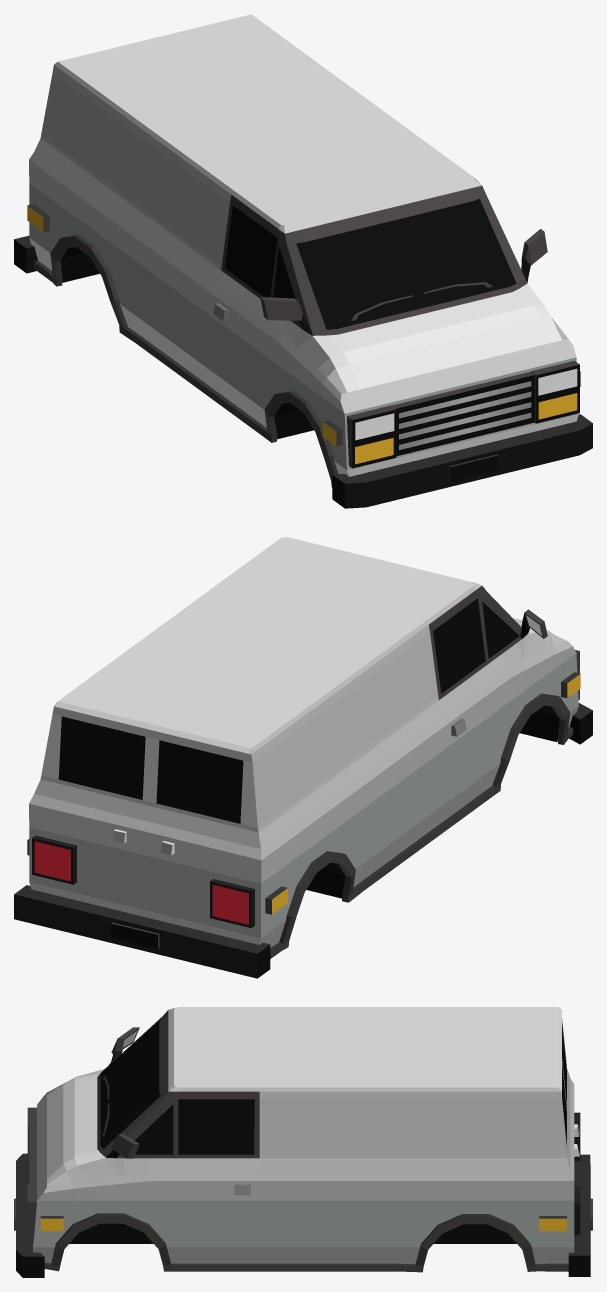
The model's file is Van.fbx.
3 renders of one model, top to bottom at view 1: azimuth 30°, elevation 25°; view 2: azimuth 150°, elevation 25°; view 3: azimuth 270°, elevation 25°, orthographic. The views are drawn at different scales.
Visible parts, largest first — view 1: Van; view 2: Van; view 3: Van.
Boxes of the visible parts, x1=… form: Van: x1=14, y1=14, x2=592, y2=508; Van: x1=14, y1=537, x2=592, y2=978; Van: x1=14, y1=1007, x2=592, y2=1277.
Bounding box in the file's own units: 1.92 × 1.38 × 4.03.
